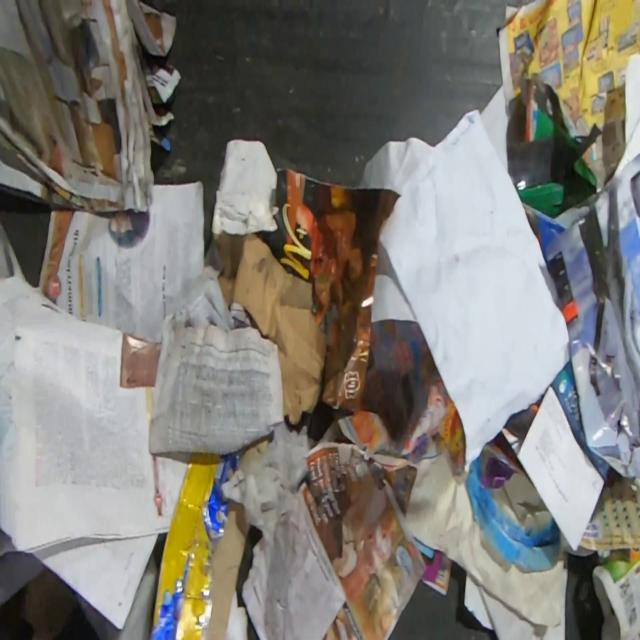cardboard: (149, 434, 270, 640), (216, 230, 328, 428), (514, 69, 625, 219), (18, 566, 80, 640)
rigid_plastic: (464, 451, 561, 574)
soft_plastic: (0, 548, 46, 608), (119, 330, 162, 389)
